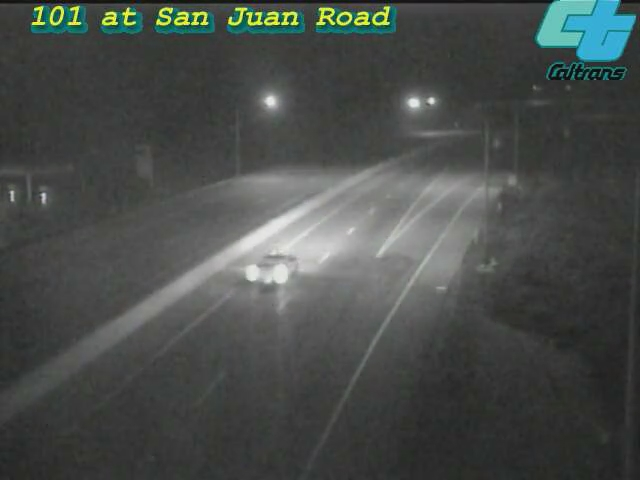vehicle: (232, 230, 312, 310)
